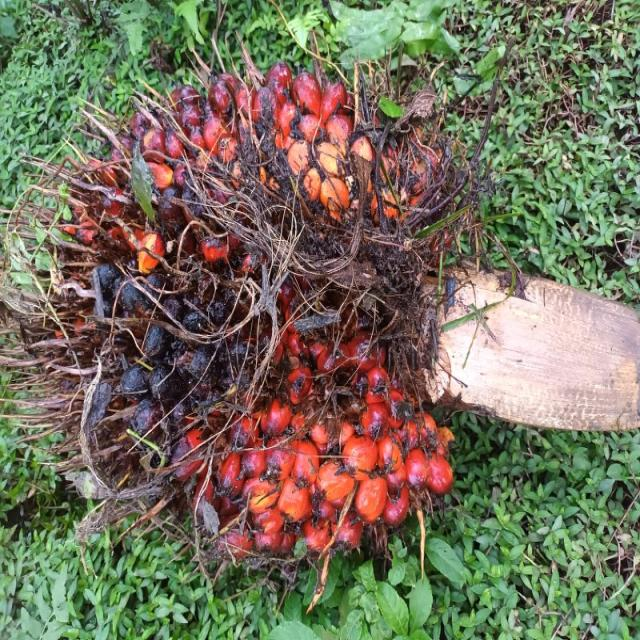fraksi 3: (13, 23, 526, 561)
